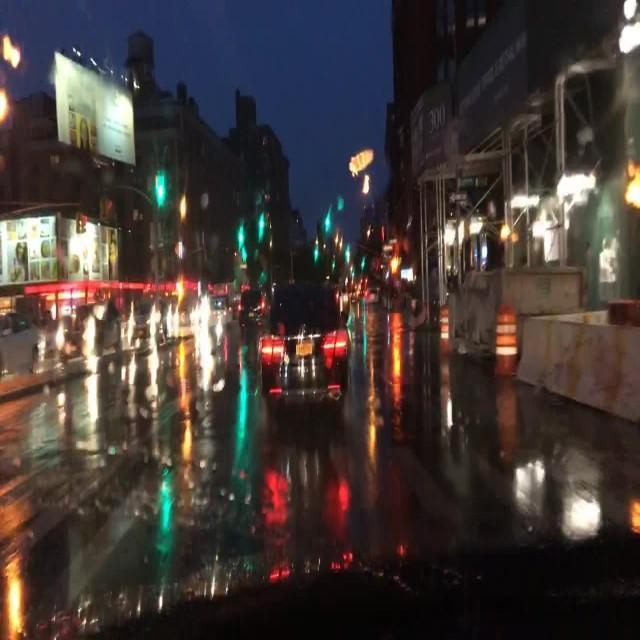normal: (230, 250, 387, 437)
